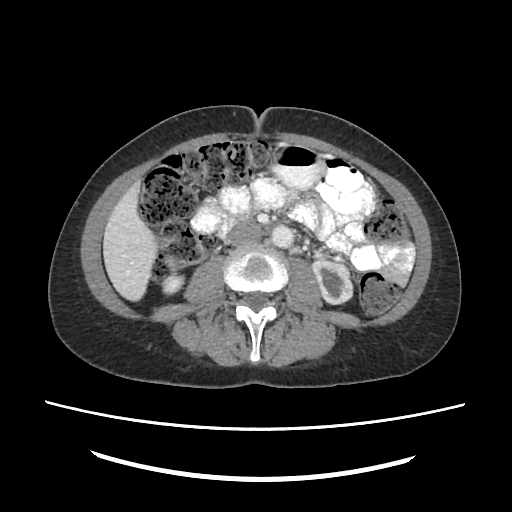Lesion: (315, 265, 349, 304)
